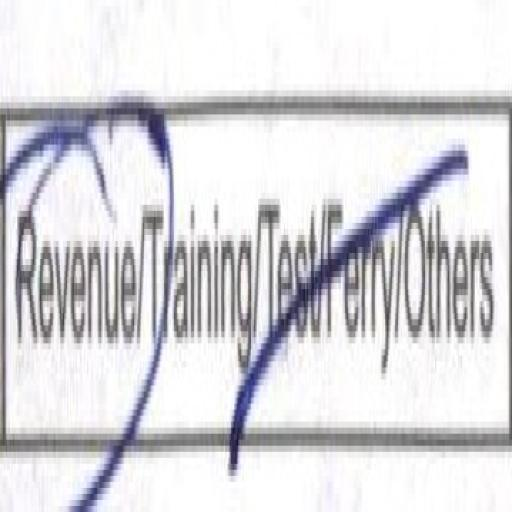check: (0, 27, 143, 508)
